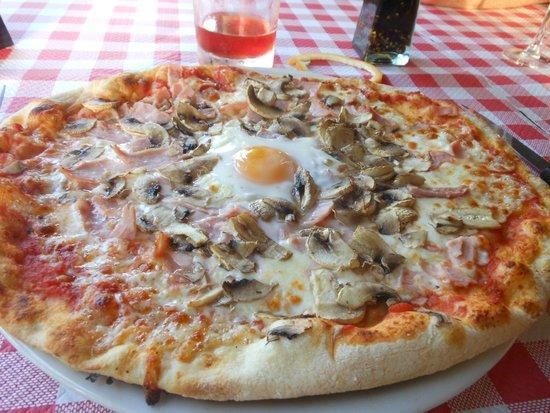champignon: (306, 227, 362, 271), (161, 225, 219, 259), (338, 282, 404, 309), (247, 82, 285, 124), (247, 196, 302, 224), (172, 100, 214, 135), (120, 127, 173, 154), (222, 278, 277, 303)
